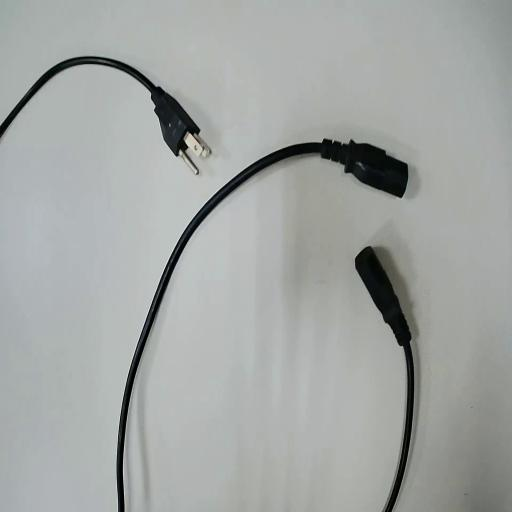wire: (118, 140, 407, 511), (0, 57, 198, 154), (356, 247, 413, 511)
